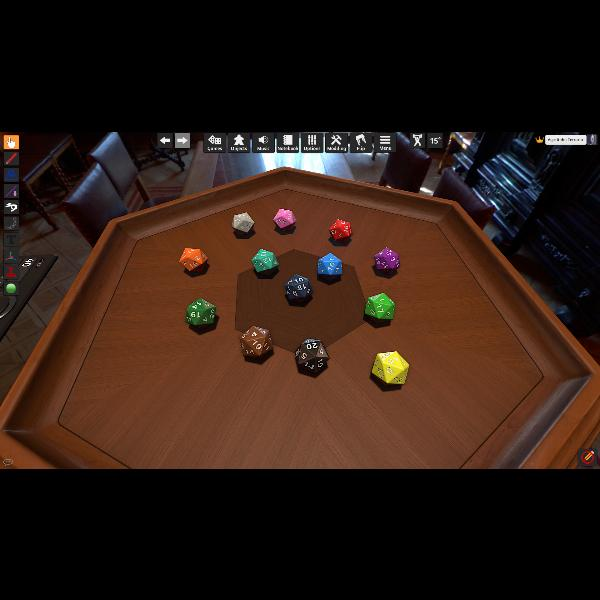d20: (370, 349, 408, 383), (239, 326, 273, 358), (298, 338, 330, 370), (364, 292, 394, 323), (184, 297, 214, 327), (284, 274, 312, 301), (179, 247, 207, 273), (251, 248, 278, 274), (373, 247, 398, 273), (328, 219, 352, 242), (318, 252, 340, 276), (232, 211, 254, 233), (274, 208, 296, 230)
